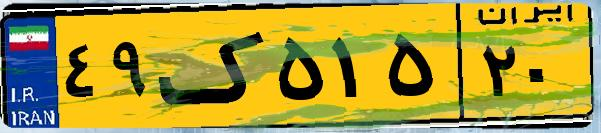0: (525, 38, 570, 115)
1: (330, 28, 385, 110)
2: (475, 38, 525, 113)
4: (57, 26, 110, 100)
5: (270, 28, 330, 110), (385, 28, 445, 110)
9: (110, 28, 158, 98)
ک: (158, 12, 270, 120)
